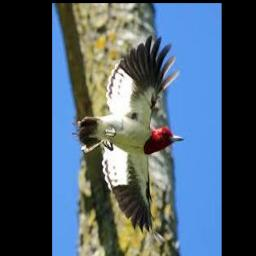Woodpecker: (73, 36, 184, 241)
